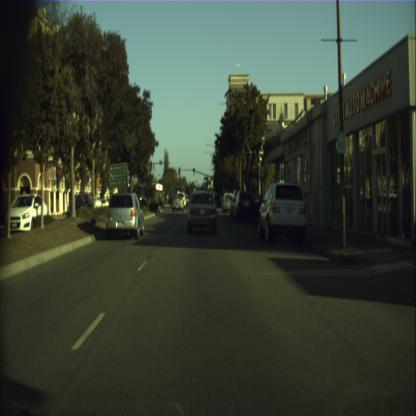Green: (192, 167, 194, 174)
Red: (178, 166, 180, 172)
